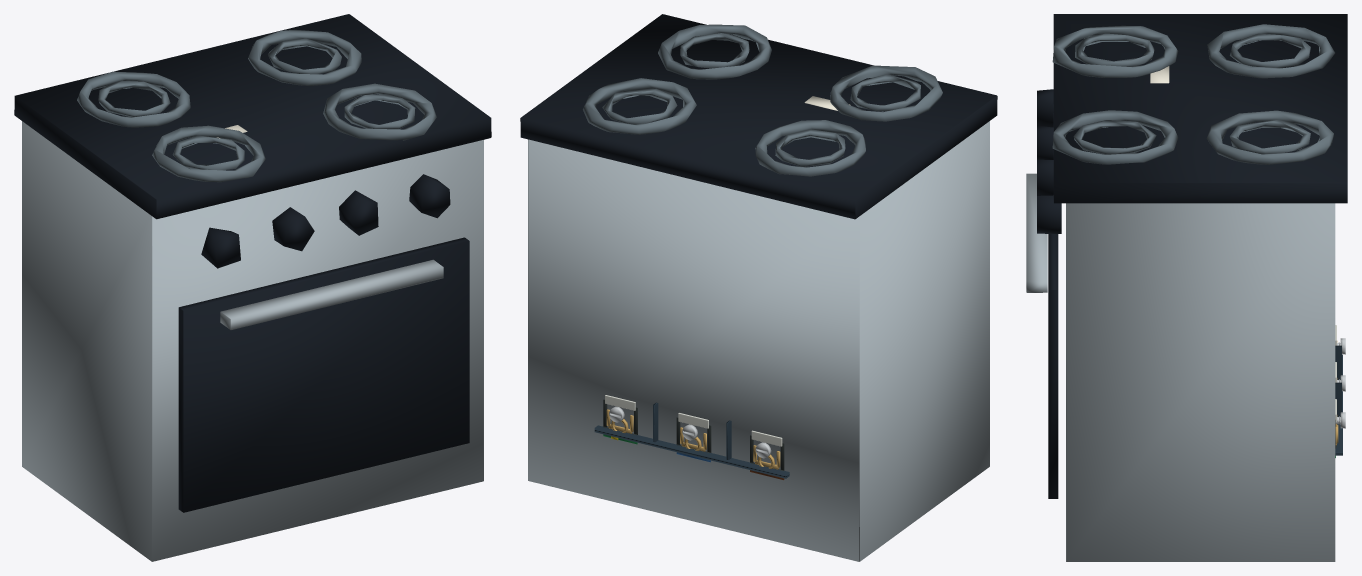
File: cooker_default.low.glb
3 views of the same model, side by side, from view 1: azimuth 30°, elevation 25°; view 2: azimuth 150°, elevation 25°; view 3: azimuth 270°, elevation 25° (orthographic). The views are drawn at different scales.
Visible parts, largest first — view 1: part:body · Original 2a8198d3, part:body · Original 3ff2d46d, part:element · Original 0905ee26, part:actuator · Original 3ff2d46d; view 2: part:body · Original 2a8198d3, part:body · Original 3ff2d46d, part:element · Original 0905ee26, part:terminals · Original a463fd81; view 3: part:body · Original 2a8198d3, part:body · Original 3ff2d46d, part:element · Original 0905ee26, part:actuator · Original 3ff2d46d, part:terminals · Original a463fd81.
Part boxes in pixels (x1,y1,x2,y2): part:body · Original 2a8198d3: (22, 121, 483, 561); part:body · Original 3ff2d46d: (14, 14, 491, 512); part:element · Original 0905ee26: (77, 29, 436, 182); part:actuator · Original 3ff2d46d: (201, 174, 450, 268); part:body · Original 2a8198d3: (528, 121, 989, 561); part:body · Original 3ff2d46d: (520, 14, 997, 219); part:element · Original 0905ee26: (583, 24, 942, 176); part:terminals · Original a463fd81: (594, 402, 789, 478); part:body · Original 2a8198d3: (1026, 173, 1335, 561); part:body · Original 3ff2d46d: (1048, 14, 1347, 498); part:element · Original 0905ee26: (1052, 24, 1334, 164); part:actuator · Original 3ff2d46d: (1037, 89, 1061, 233); part:terminals · Original a463fd81: (1335, 345, 1342, 455).
Bounding box in the file's own units: 1.27 × 1.36 × 1.02.
